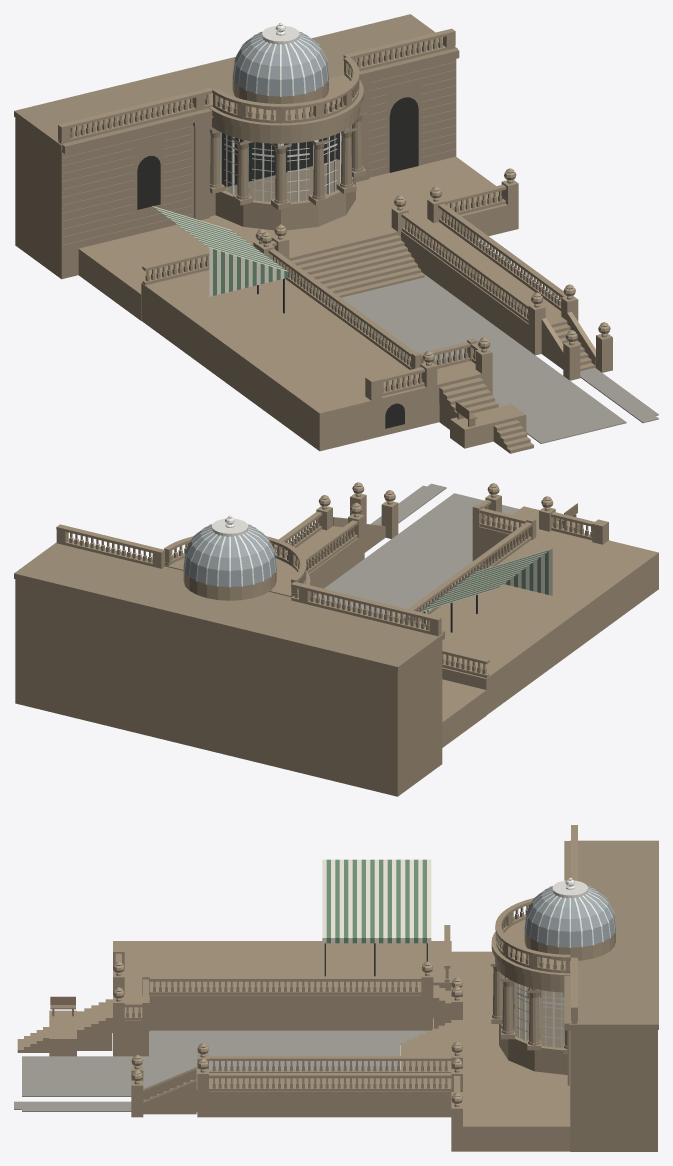
Rendered from pullman_house_1729_prairie_conservatory__as_standing_1904.glb.
The picture shows the model from 3 angles, top to bottom: view 1: azimuth 30°, elevation 25°; view 2: azimuth 150°, elevation 25°; view 3: azimuth 270°, elevation 25°; orthographic projection. The views are drawn at different scales.
Visible parts, largest first — view 1: pullman_house_1729_prairie_conservatory__as_standing_1904; view 2: pullman_house_1729_prairie_conservatory__as_standing_1904; view 3: pullman_house_1729_prairie_conservatory__as_standing_1904.
Part boxes in pixels (left/top/right/bottom): pullman_house_1729_prairie_conservatory__as_standing_1904: left=14, top=14, right=658, bottom=453; pullman_house_1729_prairie_conservatory__as_standing_1904: left=14, top=482, right=658, bottom=796; pullman_house_1729_prairie_conservatory__as_standing_1904: left=14, top=825, right=658, bottom=1151.
Bounding box in the file's own units: 21.91 × 10.73 × 32.5.
